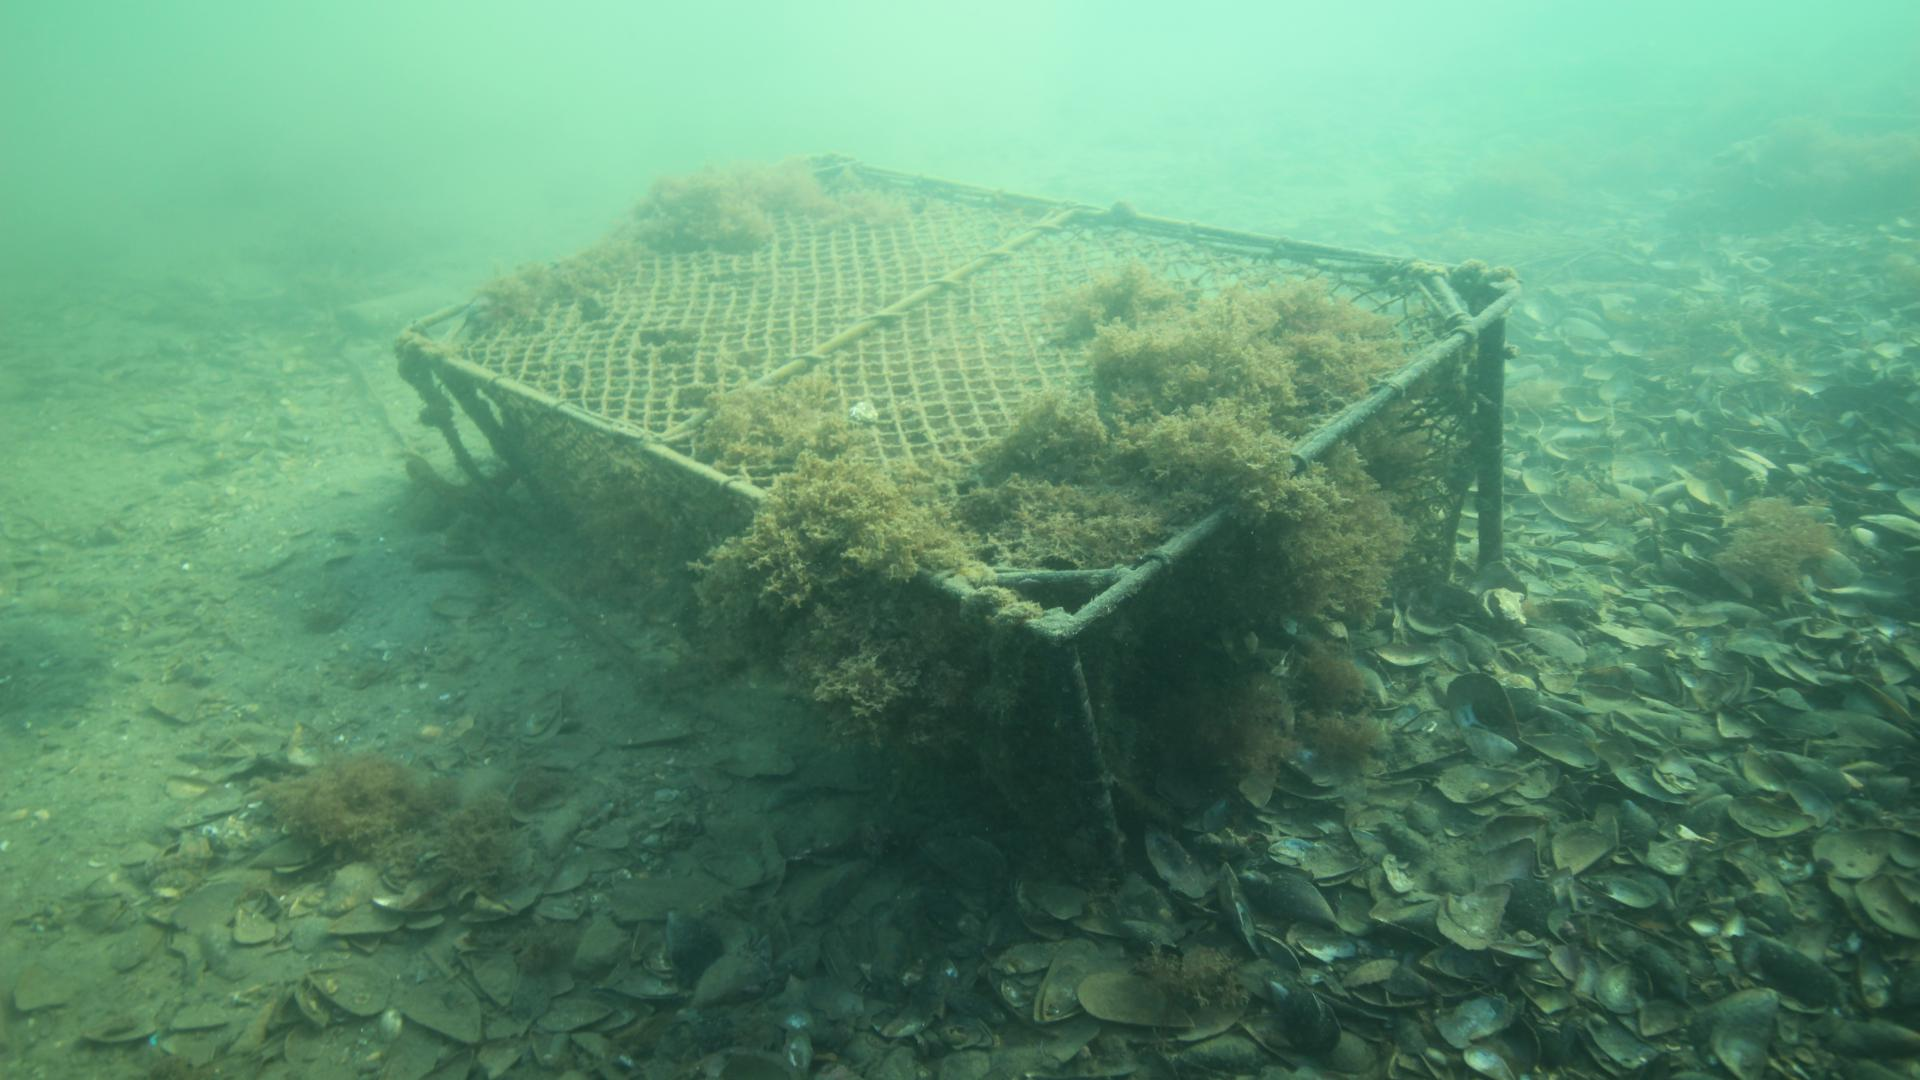rectangular fish trap: (388, 145, 1528, 873)
